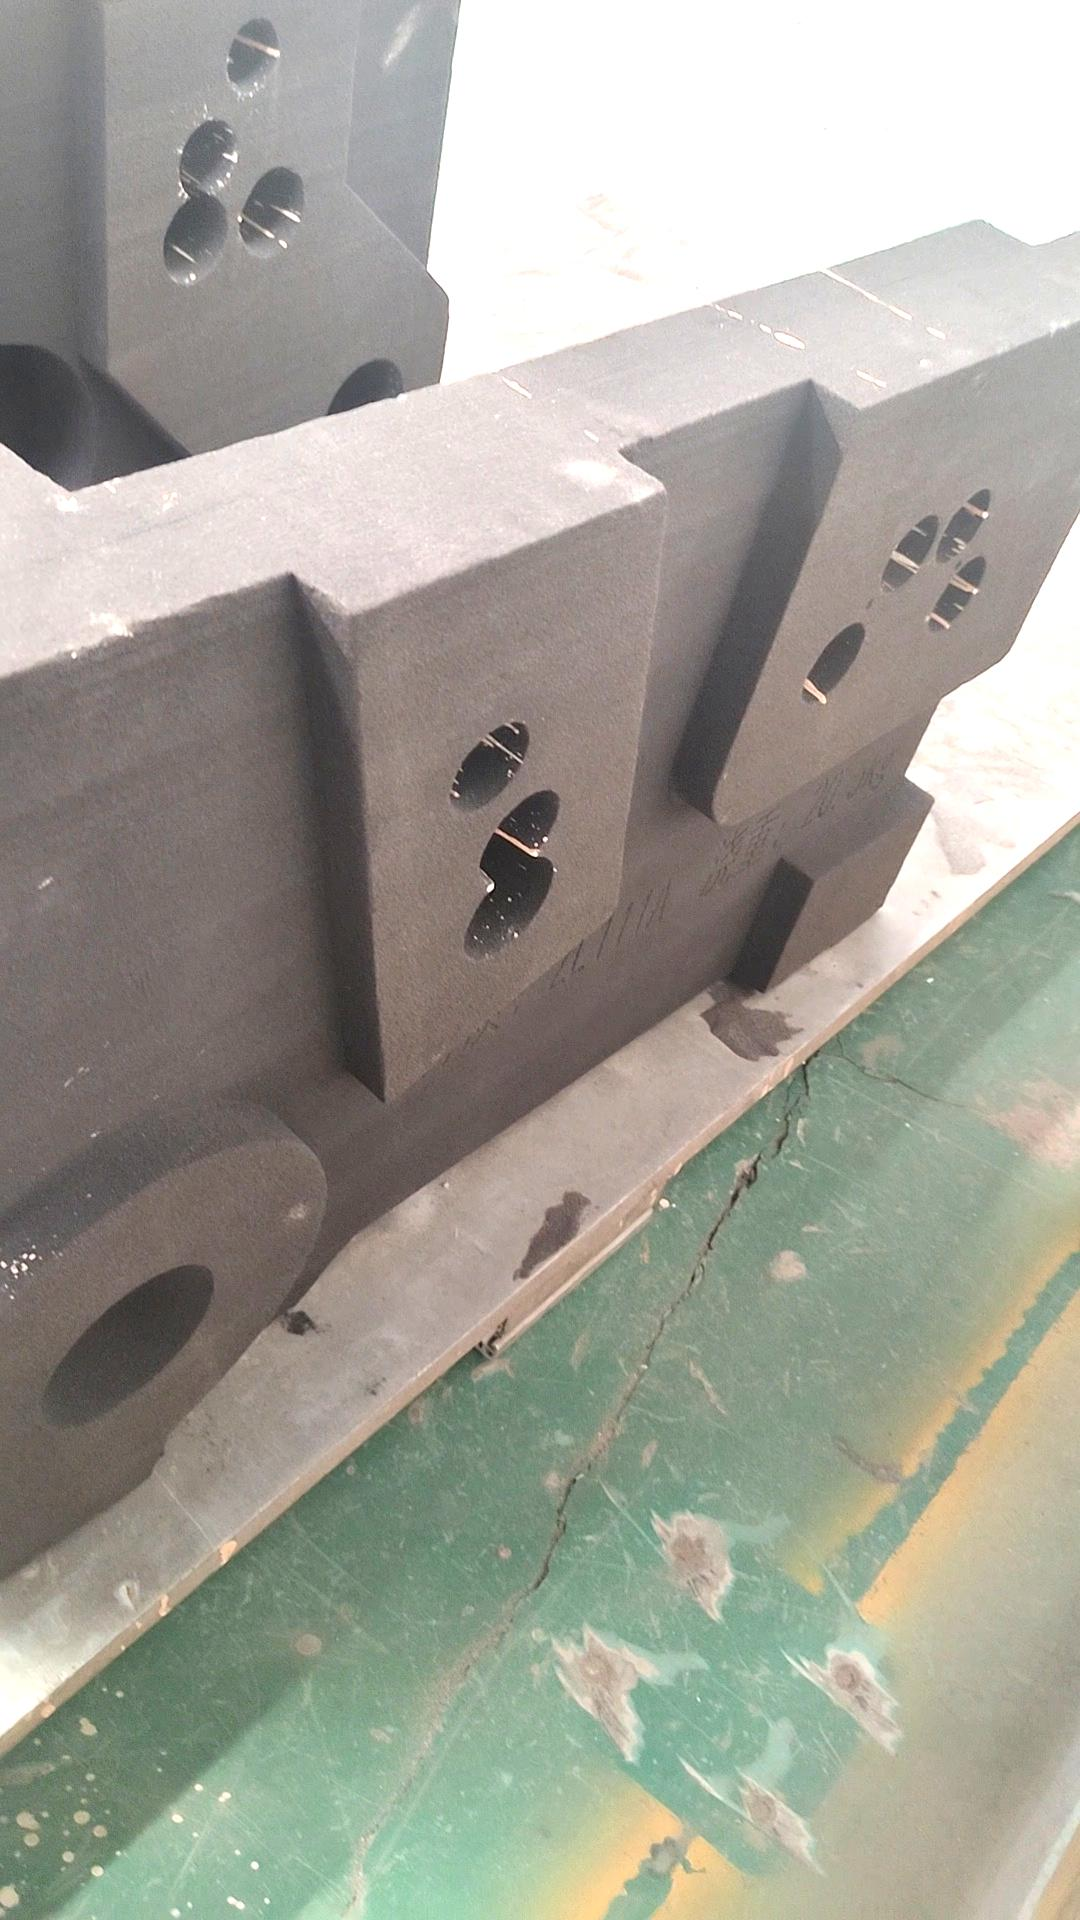pouring hole: (42, 1267, 218, 1428), (323, 357, 405, 436)
